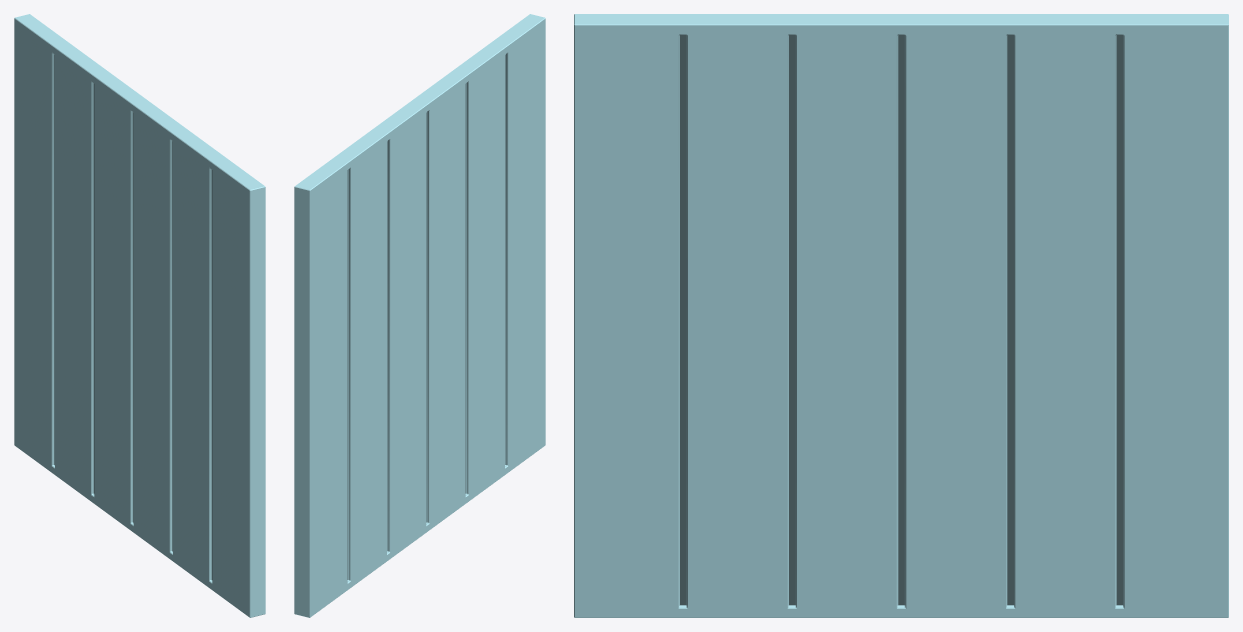
Rendered from refrigerated_wall.glb.
The picture shows the model from 3 angles, left to right: view 1: azimuth 30°, elevation 25°; view 2: azimuth 150°, elevation 25°; view 3: azimuth 270°, elevation 25°; orthographic projection. The views are drawn at different scales.
Parts seen in each view (by area): view 1: Refrigerated_Wall; view 2: Refrigerated_Wall; view 3: Refrigerated_Wall.
Boxes of the visible parts, left/top/right/bottom form: Refrigerated_Wall: left=14, top=14, right=265, bottom=617; Refrigerated_Wall: left=294, top=14, right=545, bottom=617; Refrigerated_Wall: left=574, top=14, right=1228, bottom=617.
Size of the model in its own units: 0.1577 by 4 by 4.
Materials: 1 (1 with a texture image).
